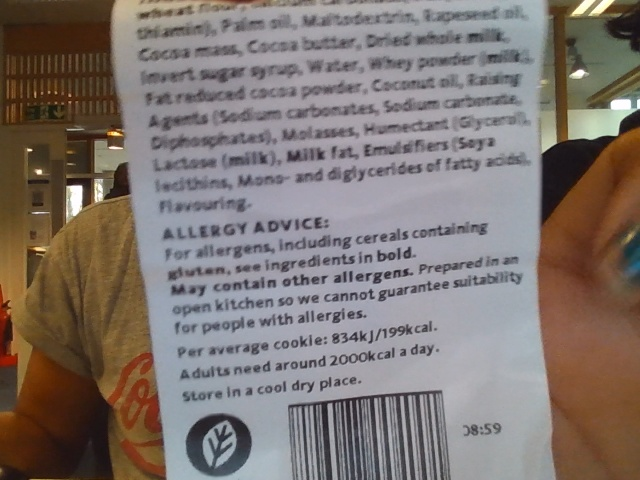milk: (284, 147, 329, 166)
